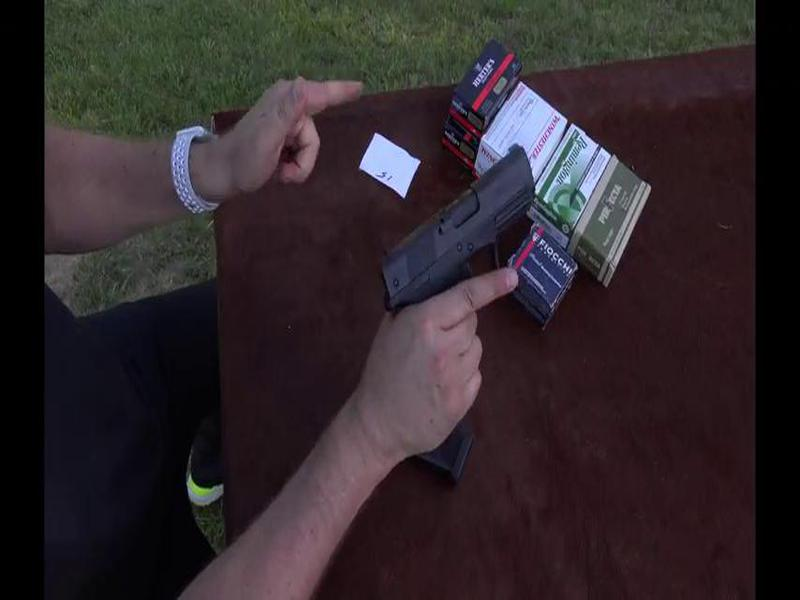Pistola: (347, 156, 557, 305)
